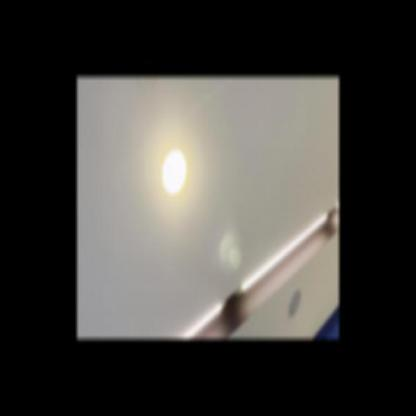light_on: (238, 209, 324, 296), (174, 294, 230, 339), (160, 138, 190, 206)
